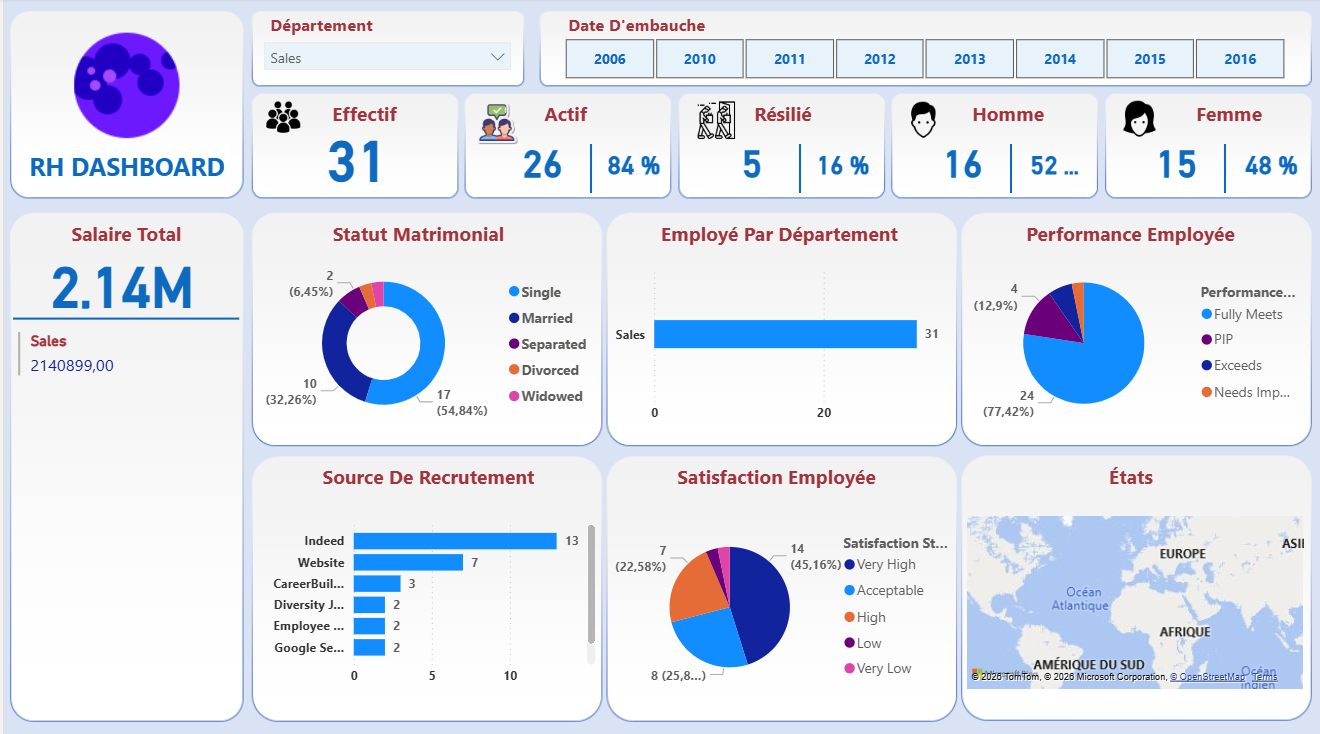

Layout of this report page (visuals, bound fields, positions):
{"tool":"powerbi","page":{"name":"RH DASHBOARD","canvas":[1280,720],"ordinal":0},"visuals":[{"type":"image","box":[37,18.5,165.3,133.3],"z":0},{"type":"card","fields":{"Values":["All measures.Active"]},"box":[479.5,132.3,88.5,52.5],"z":0,"group":"g1"},{"type":"card","fields":{"Values":["All measures.Terminated"]},"box":[682.8,132.3,88.5,52.5],"z":0,"group":"g2"},{"type":"card","fields":{"Values":["All measures.Male"]},"box":[888,132.3,88.5,52.5],"z":0,"group":"g3"},{"type":"card","fields":{"Values":["All measures.Female"]},"box":[1096.2,132.3,88.5,52.5],"z":0,"group":"g4"},{"type":"textbox","box":[19.5,142,200.4,42.8],"z":1000},{"type":"shape","box":[560.2,142,21.4,47.7],"z":1000,"group":"g1"},{"type":"shape","box":[763.5,142,21.4,47.7],"z":1000,"group":"g2"},{"type":"shape","box":[968.7,142,21.4,47.7],"z":1000,"group":"g3"},{"type":"shape","box":[1176.9,142,21.4,47.7],"z":1000,"group":"g4"},{"type":"card","fields":{"Values":["All measures.Active %"]},"box":[581.6,140.1,62.2,42.8],"z":2000,"group":"g1"},{"type":"card","fields":{"Values":["All measures.Terminated %"]},"box":[784.9,140.1,62.2,42.8],"z":2000,"group":"g2"},{"type":"card","fields":{"Values":["All measures.Male %"]},"box":[990.1,140.1,62.2,42.8],"z":2000,"group":"g3"},{"type":"card","fields":{"Values":["All measures.Female %"]},"box":[1198.2,140.8,69.1,41.8],"z":2000,"group":"g4"},{"type":"shape","box":[9,288.1,220.3,47.9],"z":2000},{"type":"slicer","fields":{"Values":["HRData.Department"]},"box":[243.2,33.1,259.7,44.7],"z":3000},{"type":"slicer","fields":{"Values":["HRData.Hiring Year"]},"box":[520.4,33.1,748.9,51.6],"z":4000},{"type":"textbox","box":[253.9,9.7,119.6,38.9],"z":5000},{"type":"textbox","box":[543.7,9.7,235.4,31.1],"z":6000},{"type":"textbox","box":[314.2,94.3,99.2,35],"z":7000},{"type":"image","box":[243.2,94.3,56.4,42.8],"z":8000},{"type":"textbox","box":[520.4,94.3,80.7,35],"z":9000},{"type":"image","box":[447.4,94.3,64.2,54.5],"z":10000},{"type":"textbox","box":[724.6,94.3,80.7,35],"z":11000},{"type":"image","box":[661.4,94.3,63.2,48.6],"z":12000},{"type":"textbox","box":[936.7,94.3,80.7,35],"z":13000},{"type":"textbox","box":[1154.5,94.3,80.7,35],"z":14000},{"type":"image","box":[862.7,94.3,63.2,47.7],"z":15000},{"type":"image","box":[1072.8,93.4,63.2,47.7],"z":16000},{"type":"textbox","box":[314.2,211.1,178,38.9],"z":17000},{"type":"textbox","box":[627.4,211.1,253.9,38.9],"z":18000},{"type":"textbox","box":[977.5,211.1,236.4,38.9],"z":19000},{"type":"textbox","box":[286,447.4,253.9,38.9],"z":20000},{"type":"textbox","box":[640,447.4,222.7,38.9],"z":21000},{"type":"textbox","box":[1052.4,447.4,87.5,38.9],"z":22000},{"type":"textbox","box":[50.6,211.1,137.1,38.9],"z":23000},{"type":"card","fields":{"Values":["All measures.Headcount"]},"box":[283,118.7,120.6,66.1],"z":24000},{"type":"group","id":"g1","title":"Groupe 1","box":[479.5,132.3,164.4,57.4],"z":25000},{"type":"group","id":"g2","title":"Groupe 1","box":[682.8,132.3,164.4,57.4],"z":26000},{"type":"group","id":"g3","title":"Groupe 1","box":[888,132.3,164.4,57.4],"z":27000},{"type":"group","id":"g4","title":"Groupe 1","box":[1096.2,132.3,171,57.4],"z":28000},{"type":"donutChart","fields":{"Y":["All measures.Headcount"],"Category":["HRData.MaritalStatus"]},"box":[243.2,250.2,337.9,171.5],"z":29000},{"type":"clusteredBarChart","fields":{"Category":["HRData.Department"],"Y":["All measures.Headcount"]},"box":[588.2,250.2,336.9,171.5],"z":30000},{"type":"pieChart","fields":{"Y":["All measures.Headcount"],"Category":["HRData.PerformanceScore"]},"box":[932.1,250.2,335,171.5],"z":31000},{"type":"clusteredBarChart","fields":{"Y":["All measures.Headcount"],"Category":["HRData.RecruitmentSource"]},"box":[243.2,499.4,336.9,178.4],"z":32000},{"type":"pieChart","fields":{"Y":["All measures.Headcount"],"Category":["HRData.Satisfaction Status"]},"box":[590.2,506.4,335,171.5],"z":33000},{"type":"map","fields":{"Series":["HRData.State"],"Size":["All measures.Headcount"]},"box":[932.1,499.4,336.9,178.4],"z":34000},{"type":"card","fields":{"Values":["All measures.Total Salary"]},"box":[10,241.2,210.3,65.8],"z":35000},{"type":"multiRowCard","fields":{"Values":["All measures.Total Salary","HRData.Department"]},"box":[9,320,220.3,382.8],"z":36000}]}

Visuals, with their boxes in screenshot pixels (x1, y1, x2, y2), scaled from the page's 1280x720 canvas onto the 1320x734 screenshot:
image: [38,19,209,155]
card - All measures.Active: [494,135,586,188]
card - All measures.Terminated: [704,135,795,188]
card - All measures.Male: [916,135,1007,188]
card - All measures.Female: [1130,135,1222,188]
textbox: [20,145,227,188]
shape: [578,145,600,193]
shape: [787,145,809,193]
shape: [999,145,1021,193]
shape: [1214,145,1236,193]
card - All measures.Active %: [600,143,664,186]
card - All measures.Terminated %: [809,143,874,186]
card - All measures.Male %: [1021,143,1085,186]
card - All measures.Female %: [1236,144,1307,186]
shape: [9,294,236,343]
slicer - HRData.Department: [251,34,519,79]
slicer - HRData.Hiring Year: [537,34,1309,86]
textbox: [262,10,385,50]
textbox: [561,10,803,42]
textbox: [324,96,426,132]
image: [251,96,309,140]
textbox: [537,96,620,132]
image: [461,96,528,152]
textbox: [747,96,830,132]
image: [682,96,747,146]
textbox: [966,96,1049,132]
textbox: [1191,96,1274,132]
image: [890,96,955,145]
image: [1106,95,1172,144]
textbox: [324,215,508,255]
textbox: [647,215,909,255]
textbox: [1008,215,1252,255]
textbox: [295,456,557,496]
textbox: [660,456,890,496]
textbox: [1085,456,1176,496]
textbox: [52,215,194,255]
card - All measures.Headcount: [292,121,416,188]
"Groupe 1" group: [494,135,664,193]
"Groupe 1" group: [704,135,874,193]
"Groupe 1" group: [916,135,1085,193]
"Groupe 1" group: [1130,135,1307,193]
donutChart - All measures.Headcount x HRData.MaritalStatus: [251,255,599,430]
clusteredBarChart - HRData.Department x All measures.Headcount: [607,255,954,430]
pieChart - All measures.Headcount x HRData.PerformanceScore: [961,255,1307,430]
clusteredBarChart - All measures.Headcount x HRData.RecruitmentSource: [251,509,598,691]
pieChart - All measures.Headcount x HRData.Satisfaction Status: [609,516,954,691]
map - HRData.State x All measures.Headcount: [961,509,1309,691]
card - All measures.Total Salary: [10,246,227,313]
multiRowCard - All measures.Total Salary x HRData.Department: [9,326,236,716]
